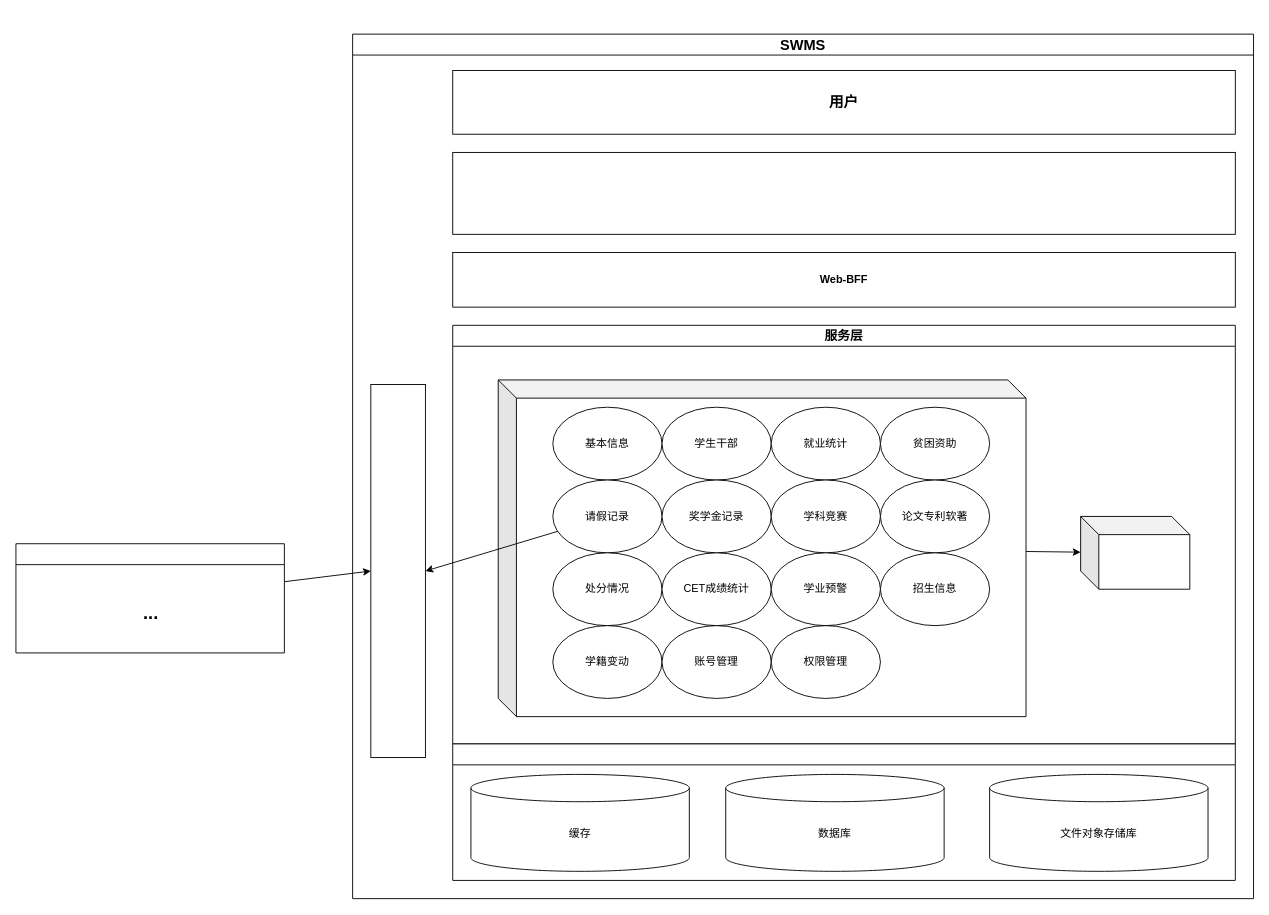
This 1269x915 diagram has some shape labels left out. The shapes that lost their labels are listed below. From the top down, each one's box as (x1, y1, x2, y2) in pixels, then its label:
(452, 152, 1235, 234): Web-Server
(370, 384, 425, 758): Adapter
(1080, 516, 1190, 589): 统计图表处理
(15, 543, 284, 653): 请假系统
(452, 743, 1235, 880): 数据层
